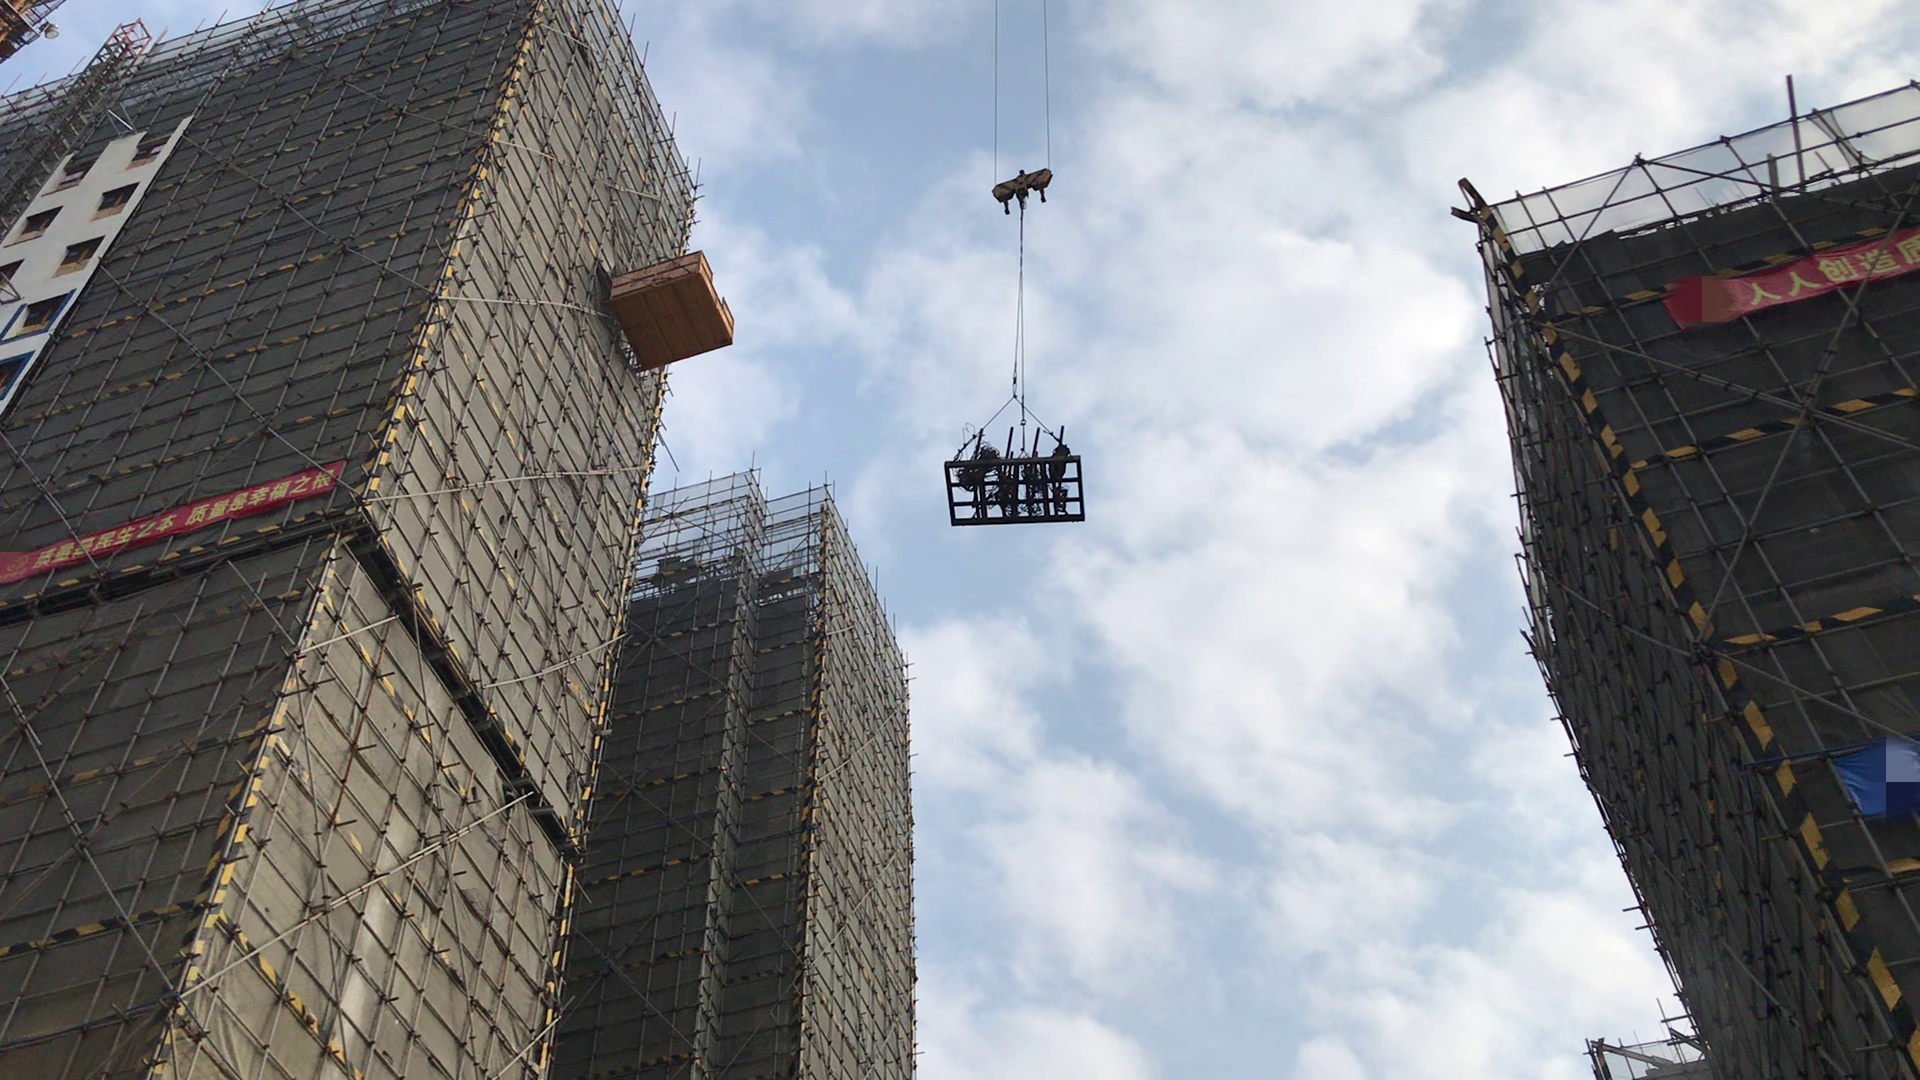hook: (984, 164, 1072, 237)
slogan: (9, 465, 351, 570), (1646, 220, 1920, 295)
